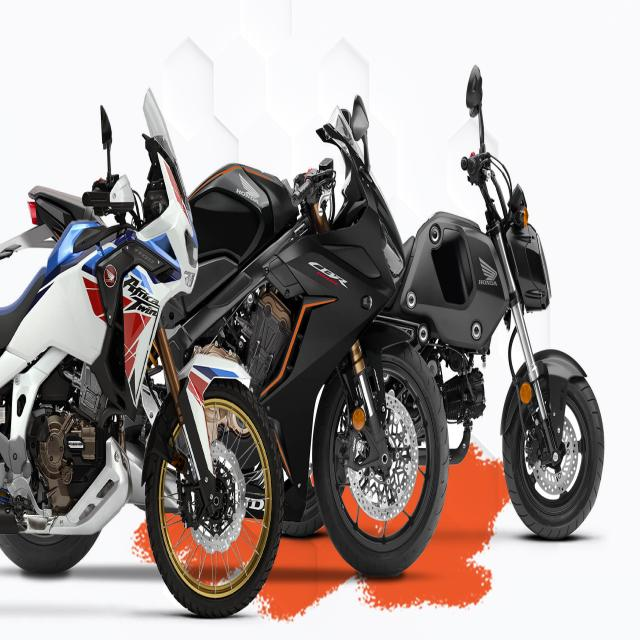Motorcycle: (0, 91, 283, 613), (165, 107, 449, 573), (385, 65, 605, 539)
